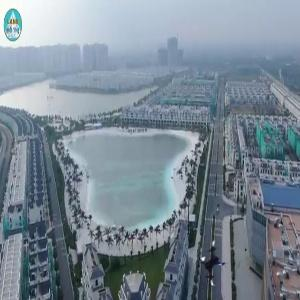drone: (195, 238, 245, 288)
